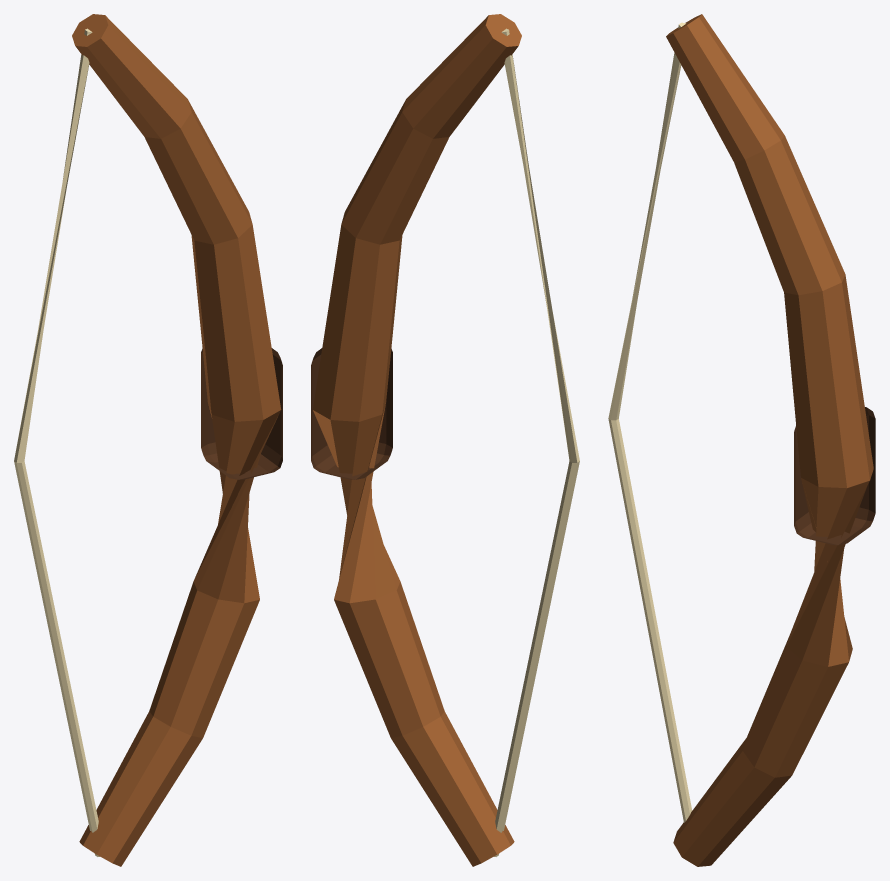
The model's file is bow.glb.
3 renders of one model, left to right at view 1: azimuth 30°, elevation 25°; view 2: azimuth 150°, elevation 25°; view 3: azimuth 330°, elevation 25°, orthographic.
Visible parts, largest first — view 1: Curved wooden bow, Bowstring, Bow grip; view 2: Curved wooden bow, Bowstring, Bow grip; view 3: Curved wooden bow, Bowstring, Bow grip.
Part boxes in pixels (box(x1,y1,x2,y2)): Curved wooden bow: box(72, 14, 281, 866); Bowstring: box(14, 28, 99, 856); Bow grip: box(201, 348, 282, 479); Curved wooden bow: box(312, 14, 521, 866); Bowstring: box(494, 28, 579, 856); Bow grip: box(311, 348, 392, 479); Curved wooden bow: box(666, 14, 873, 866); Bowstring: box(608, 22, 692, 822); Bow grip: box(794, 407, 875, 545).
Bounding box in the file's own units: 0.5178 × 1.61 × 0.13.
